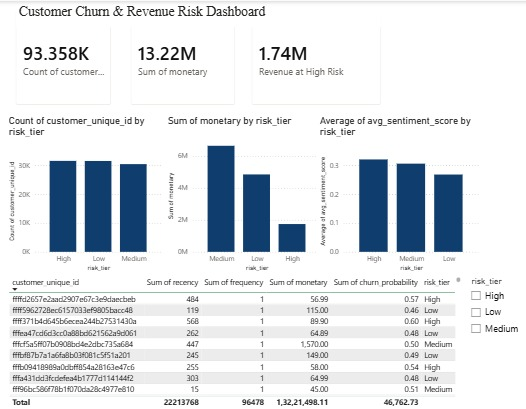

The page's visual inventory and layout, read from the dashboard file:
{"tool":"powerbi","page":{"name":"Page 1","canvas":[1280,720],"ordinal":0},"visuals":[{"type":"cardVisual","fields":{"Data":["CountNonNull(final_customer_dataset.customer_unique_id)"]},"box":[10.6,0,202.5,200.7],"z":0},{"type":"cardVisual","fields":{"Data":["Sum(final_customer_dataset.monetary)"]},"box":[213,0,218.3,200.7],"z":1000},{"type":"clusteredColumnChart","fields":{"Category":["final_customer_dataset.risk_tier"],"Y":["CountNonNull(final_customer_dataset.customer_unique_id)"]},"box":[10.6,200.7,279.9,279.9],"z":2000},{"type":"clusteredColumnChart","fields":{"Category":["final_customer_dataset.risk_tier"],"Y":["Sum(final_customer_dataset.monetary)"]},"box":[290.5,200.7,279.9,279.9],"z":3000},{"type":"clusteredColumnChart","fields":{"Category":["final_customer_dataset.risk_tier"],"Y":["Avg(final_customer_dataset.avg_sentiment_score)"]},"box":[558.1,200.7,290.5,279.9],"z":4000},{"type":"tableEx","fields":{"Values":["final_customer_dataset.customer_unique_id","Sum(final_customer_dataset.recency)","Sum(final_customer_dataset.frequency)","Sum(final_customer_dataset.monetary)","Sum(final_customer_dataset.churn_probability)","final_customer_dataset.risk_tier"]},"box":[10.6,480.7,806.4,239.4],"z":5000},{"type":"slicer","fields":{"Values":["final_customer_dataset.risk_tier"]},"box":[816.9,480.7,160.2,163.7],"z":6000},{"type":"cardVisual","fields":{"Data":["final_customer_dataset.Revenue at High Risk"]},"box":[426.1,0,262.3,200.7],"z":6001},{"type":"textbox","box":[28.2,0,642.6,45.8],"z":6002}]}

Visuals, with their boxes on the page's 1280x720 design canvas (x1, y1, x2, y2). These are canvas units, not pixel positions in the 526x409 screenshot, which may show the page scaled, cropped or inside an application window:
cardVisual - CountNonNull(final_customer_dataset.customer_unique_id): [left=11, top=0, right=213, bottom=201]
cardVisual - Sum(final_customer_dataset.monetary): [left=213, top=0, right=431, bottom=201]
clusteredColumnChart - final_customer_dataset.risk_tier x CountNonNull(final_customer_dataset.customer_unique_id): [left=11, top=201, right=290, bottom=481]
clusteredColumnChart - final_customer_dataset.risk_tier x Sum(final_customer_dataset.monetary): [left=290, top=201, right=570, bottom=481]
clusteredColumnChart - final_customer_dataset.risk_tier x Avg(final_customer_dataset.avg_sentiment_score): [left=558, top=201, right=849, bottom=481]
tableEx - final_customer_dataset.customer_unique_id x Sum(final_customer_dataset.recency): [left=11, top=481, right=817, bottom=720]
slicer - final_customer_dataset.risk_tier: [left=817, top=481, right=977, bottom=644]
cardVisual - final_customer_dataset.Revenue at High Risk: [left=426, top=0, right=688, bottom=201]
textbox: [left=28, top=0, right=671, bottom=46]
